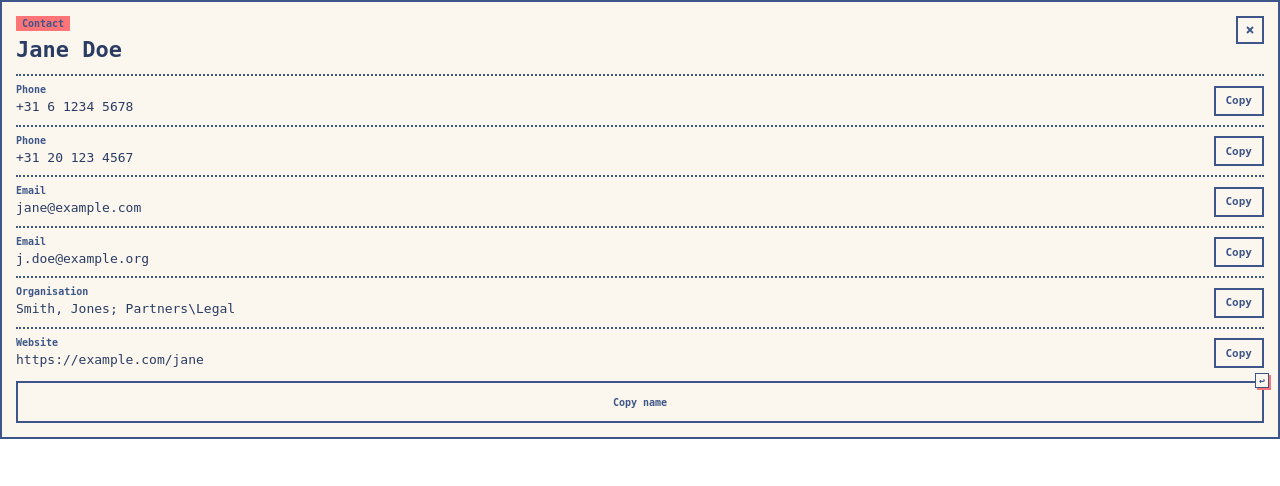
Test: ResultCard, contact card › shows why a copy failed, and says Copied nowhere
Click the button "Copy" in the row of "+31 6 1234 5678". click: (1239, 100)
box: top-left (1214, 86), bottom-right (1264, 116)
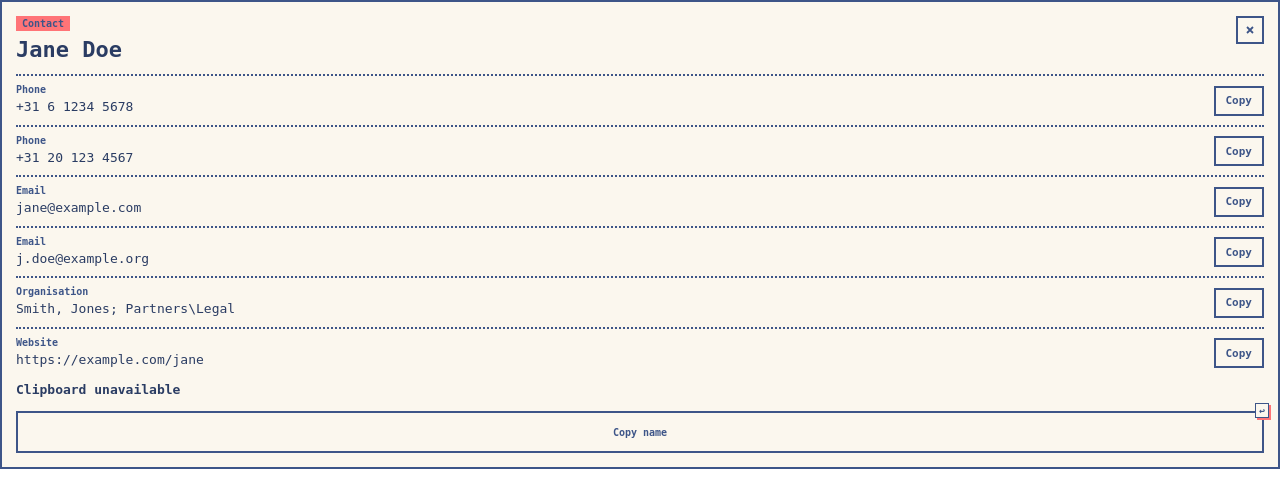
Result: the text "Clipboard unavailable" is shown at top-left (16, 382), bottom-right (180, 397)
